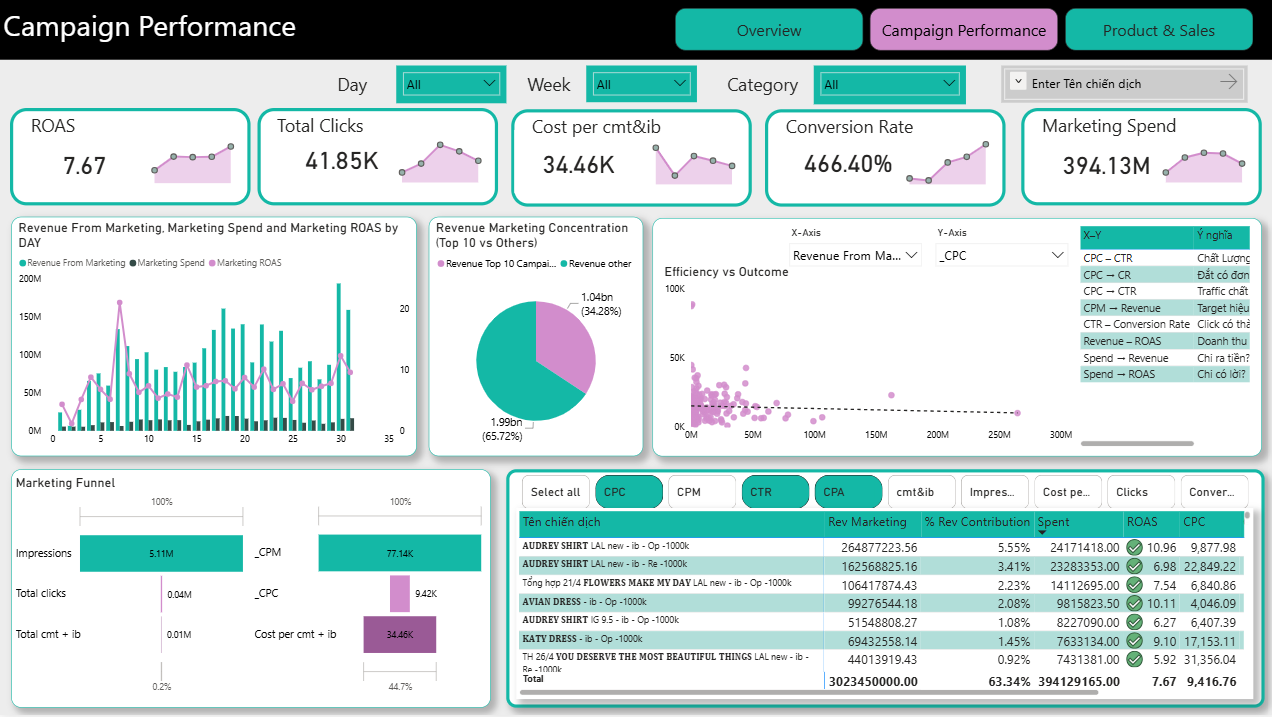

What the dashboard file says about the page in this screenshot:
{"tool":"powerbi","page":{"name":"Campaign Performance","canvas":[1920,1080],"ordinal":1},"visuals":[{"type":"textbox","box":[0,0,1920,93],"z":0},{"type":"textbox","box":[787.3,107.1,111.6,43.3],"z":0,"group":"g11"},{"type":"textbox","box":[502.2,107.2,111.1,44.5],"z":0,"group":"g12"},{"type":"textbox","box":[1087.4,107.2,157.2,44.4],"z":0,"group":"g13"},{"type":"shape","box":[387.7,166.1,361.6,146.6],"z":0,"group":"g4"},{"type":"shape","box":[1535.3,166.1,361.6,146.6],"z":0,"group":"g8"},{"type":"group","id":"g1","title":"Group 1","box":[15.1,166.7,361.6,146.6],"z":0,"group":"g9"},{"type":"shape","box":[15.1,166.7,361.6,146.6],"z":0,"group":"g1"},{"type":"shape","box":[769.2,168,361.6,146.6],"z":0,"group":"g6"},{"type":"shape","box":[1150.1,168,361.6,146.6],"z":0,"group":"g7"},{"type":"group","id":"g2","title":"Scatter_2","box":[994.9,339.3,622.8,337.5],"z":0,"group":"g10"},{"type":"group","id":"g3","title":"Slicer Scatter","box":[1176.7,339.3,438.6,72.9],"z":0,"group":"g2"},{"type":"slicer","fields":{"Values":["Prmt_AXis.Prmt_AXis"]},"box":[1176.7,339.3,219.3,72.9],"z":0,"group":"g3"},{"type":"shape","box":[17,708,721.2,358.7],"z":0,"group":"g14"},{"type":"funnel","title":"Marketing Funnel","fields":{"Y":["Measure.Total impressions","Measure.Total clicks","Measure.Total cmt + ib"]},"box":[18.9,716.7,356.6,335.3],"z":0,"group":"g5"},{"type":"pivotTable","fields":{"Values":["Measure.Revenue From Marketing","Measure.% Revenue Contribution","Measure.Marketing Spend","Measure.Marketing ROAS","Measure._CPC","Measure.CPA","Measure._CTR"],"Rows":["mkt_camp_cost.Tên chiến dịch"]},"box":[775.9,766,1108.2,287],"z":0,"group":"g16"},{"type":"textbox","box":[0,6.3,582.3,79.3],"z":1000},{"type":"slicer","fields":{"Values":["Dim_Date.DAY"]},"box":[596.4,101.9,165.8,57],"z":1000,"group":"g12"},{"type":"slicer","fields":{"Values":["Dim_Date.Week"]},"box":[881.8,101.9,166.4,55.4],"z":1000,"group":"g11"},{"type":"slicer","fields":{"Values":["danh sach san pham.Danh mục"]},"box":[1221.8,101.9,229.1,58.6],"z":1000,"group":"g13"},{"type":"group","id":"g4","title":"Group 1","box":[387.7,166.1,361.6,146.6],"z":1000,"group":"g9"},{"type":"cardVisual","fields":{"Data":["Measure.Total clicks"]},"box":[412.4,188.8,215.4,105.9],"z":1000,"group":"g4"},{"type":"cardVisual","fields":{"Data":["Measure.Conversion Rate (Click → Order)"]},"box":[1161.2,189.1,233.7,113.2],"z":1000,"group":"g7"},{"type":"cardVisual","fields":{"Data":["Measure.Marketing ROAS"]},"box":[47,189.2,208.5,117.1],"z":1000,"group":"g1"},{"type":"cardVisual","fields":{"Data":["Measure.Marketing Spend"]},"box":[1550.3,189.8,230.3,115.2],"z":1000,"group":"g8"},{"type":"cardVisual","fields":{"Data":["Measure.Cost per cmt + ib"]},"box":[768.9,194.8,240.2,105.7],"z":1000,"group":"g6"},{"type":"shape","box":[981.7,330.4,915.6,358.7],"z":1000,"group":"g15"},{"type":"tableEx","fields":{"Values":["Recommend chart.X–Y","Recommend chart.Ý nghĩa"]},"box":[1618.3,338,266.2,341.4],"z":1000,"group":"g10"},{"type":"slicer","fields":{"Values":["Prmt_Yxis.Prmt_Yxis"]},"box":[1396,339.3,219.3,72.9],"z":1000,"group":"g3"},{"type":"scatterChart","title":"Efficiency vs Outcome","fields":{"X":["Measure.Revenue From Marketing"],"Y":["Measure._CPC"],"Category":["mkt_camp_cost.Tên chiến dịch"]},"box":[994.9,400.3,622.8,276.5],"z":1000,"group":"g2"},{"type":"shape","box":[760.8,708,1140.3,358.7],"z":1000,"group":"g16"},{"type":"group","id":"g5","title":"Funnel","box":[18.9,716.7,715.5,345.2],"z":1000,"group":"g14"},{"type":"funnel","title":"Marketing Funnel","fields":{"Y":["Measure._CPM","Measure._CPC","Measure.Cost per cmt + ib"]},"box":[378.6,725.9,355.9,336],"z":1000,"group":"g5"},{"type":"group","id":"g6","title":"Group 1","box":[768.9,168,361.4,147.3],"z":2000,"group":"g9"},{"type":"lineChart","fields":{"Category":["Dim_Date.Week"],"Y":["Measure.Total clicks"]},"box":[588,199.7,147.6,84.3],"z":2000,"group":"g4"},{"type":"lineChart","fields":{"Category":["Dim_Date.Week"],"Y":["Measure.Marketing Spend"]},"box":[1735.6,199.7,147.6,84.3],"z":2000,"group":"g8"},{"type":"lineChart","fields":{"Category":["Dim_Date.Week"],"Y":["Measure.Marketing ROAS"]},"box":[215.4,200.3,147.6,84.3],"z":2000,"group":"g1"},{"type":"lineChart","fields":{"Category":["Dim_Date.Week"],"Y":["Measure.Cost per cmt + ib"]},"box":[969.5,201.6,147.6,84.3],"z":2000,"group":"g6"},{"type":"lineChart","fields":{"Category":["Dim_Date.Week"],"Y":["Measure.Conversion Rate (Click → Order)"]},"box":[1350.4,201.6,147.6,84.3],"z":2000,"group":"g7"},{"type":"lineClusteredColumnComboChart","fields":{"Y":["Measure.Revenue From Marketing","Measure.Marketing Spend"],"Category":["Dim_Date.DAY"],"Y2":["Measure.Marketing ROAS"]},"box":[16.3,329.4,609.9,360.1],"z":2000},{"type":"advancedSlicerVisual","fields":{"Values":["Parameter_table.Parameter_table"]},"box":[779.2,711.7,1105.7,61.5],"z":2000,"group":"g16"},{"type":"textbox","box":[411.2,167.8,237.9,54.3],"z":3000,"group":"g4"},{"type":"textbox","box":[1562,167.8,234.1,54.3],"z":3000,"group":"g8"},{"type":"group","id":"g7","title":"Group 1","box":[1150.1,168,361.6,146.6],"z":3000,"group":"g9"},{"type":"textbox","box":[41.8,168.4,234.1,54.3],"z":3000,"group":"g1"},{"type":"textbox","box":[1175.5,169.2,266.1,54.7],"z":3000,"group":"g7"},{"type":"textbox","box":[795.9,169.7,234.1,54.3],"z":3000,"group":"g6"},{"type":"pieChart","title":"Revenue Marketing  Concentration (Top 10 vs Others)","fields":{"Y":["Measure.Revenue Top 10 Campaigns","Measure.Revenue other"]},"box":[644.2,329.4,322.1,360.1],"z":3000},{"type":"pageNavigator","box":[1015.5,14.7,871.7,64.5],"z":4000},{"type":"group","id":"g8","title":"Group 1","box":[1535.3,166.1,361.6,146.6],"z":4000,"group":"g9"},{"type":"group","id":"g9","title":"Group 2","box":[15.1,166.1,1882.2,149.1],"z":5000},{"type":"group","id":"g10","title":"ScatterP2","box":[994.9,338,889.2,341.7],"z":5000,"group":"g15"},{"type":"group","id":"g11","title":"Week","box":[787.3,101.9,260.5,56.6],"z":6000},{"type":"group","id":"g12","title":"Week","box":[502.2,101.9,258.6,56.6],"z":7000},{"type":"group","id":"g13","title":"Category","box":[1087.4,101.9,364.4,56.6],"z":8000},{"type":"textSlicer","fields":{"Values":["danh sach san pham.Tên sản phẩm"]},"box":[1506.5,101.9,364.4,54.7],"z":9000},{"type":"group","id":"g14","title":"Funnel","box":[17,708,721.2,358.7],"z":10000},{"type":"group","id":"g15","title":"Group 3","box":[981.7,330.4,915.6,358.7],"z":11000},{"type":"group","id":"g16","title":"Group 4","box":[760.8,708,1140.3,358.7],"z":12000}]}

Visuals, with their boxes in screenshot pixels (x1, y1, x2, y2), scaled from the page's 1920x1080 canvas onto the 1272x717 screenshot:
textbox: Rect(0, 0, 1271, 62)
textbox: Rect(522, 71, 596, 100)
textbox: Rect(333, 71, 406, 101)
textbox: Rect(720, 71, 825, 101)
shape: Rect(257, 110, 496, 208)
shape: Rect(1017, 110, 1257, 208)
"Group 1" group: Rect(10, 111, 250, 208)
shape: Rect(10, 111, 250, 208)
shape: Rect(510, 112, 749, 209)
shape: Rect(762, 112, 1002, 209)
"Scatter_2" group: Rect(659, 225, 1072, 449)
"Slicer Scatter" group: Rect(780, 225, 1070, 274)
slicer - Prmt_AXis.Prmt_AXis: Rect(780, 225, 925, 274)
shape: Rect(11, 470, 489, 708)
"Marketing Funnel" funnel: Rect(13, 476, 249, 698)
pivotTable - Measure.Revenue From Marketing x Measure.% Revenue Contribution: Rect(514, 509, 1248, 699)
textbox: Rect(0, 4, 386, 57)
slicer - Dim_Date.DAY: Rect(395, 68, 505, 105)
slicer - Dim_Date.Week: Rect(584, 68, 694, 104)
slicer - danh sach san pham.Danh mục: Rect(809, 68, 961, 107)
"Group 1" group: Rect(257, 110, 496, 208)
cardVisual - Measure.Total clicks: Rect(273, 125, 416, 196)
cardVisual - Measure.Conversion Rate (Click → Order): Rect(769, 126, 924, 201)
cardVisual - Measure.Marketing ROAS: Rect(31, 126, 169, 203)
cardVisual - Measure.Marketing Spend: Rect(1027, 126, 1180, 202)
cardVisual - Measure.Cost per cmt + ib: Rect(509, 129, 669, 199)
shape: Rect(650, 219, 1257, 457)
tableEx - Recommend chart.X–Y x Recommend chart.Ý nghĩa: Rect(1072, 224, 1248, 451)
slicer - Prmt_Yxis.Prmt_Yxis: Rect(925, 225, 1070, 274)
"Efficiency vs Outcome" scatterChart: Rect(659, 266, 1072, 449)
shape: Rect(504, 470, 1259, 708)
"Funnel" group: Rect(13, 476, 487, 705)
"Marketing Funnel" funnel: Rect(251, 482, 487, 705)
"Group 1" group: Rect(509, 112, 749, 209)
lineChart - Dim_Date.Week x Measure.Total clicks: Rect(390, 133, 487, 189)
lineChart - Dim_Date.Week x Measure.Marketing Spend: Rect(1150, 133, 1248, 189)
lineChart - Dim_Date.Week x Measure.Marketing ROAS: Rect(143, 133, 240, 189)
lineChart - Dim_Date.Week x Measure.Cost per cmt + ib: Rect(642, 134, 740, 190)
lineChart - Dim_Date.Week x Measure.Conversion Rate (Click → Order): Rect(895, 134, 992, 190)
lineClusteredColumnComboChart - Measure.Revenue From Marketing x Measure.Marketing Spend: Rect(11, 219, 415, 458)
advancedSlicerVisual - Parameter_table.Parameter_table: Rect(516, 472, 1249, 513)
textbox: Rect(272, 111, 430, 147)
textbox: Rect(1035, 111, 1190, 147)
"Group 1" group: Rect(762, 112, 1002, 209)
textbox: Rect(28, 112, 183, 148)
textbox: Rect(779, 112, 955, 149)
textbox: Rect(527, 113, 682, 149)
"Revenue Marketing  Concentration (Top 10 vs Others)" pieChart: Rect(427, 219, 640, 458)
pageNavigator: Rect(673, 10, 1250, 53)
"Group 1" group: Rect(1017, 110, 1257, 208)
"Group 2" group: Rect(10, 110, 1257, 209)
"ScatterP2" group: Rect(659, 224, 1248, 451)
"Week" group: Rect(522, 68, 694, 105)
"Week" group: Rect(333, 68, 504, 105)
"Category" group: Rect(720, 68, 962, 105)
textSlicer - danh sach san pham.Tên sản phẩm: Rect(998, 68, 1239, 104)
"Funnel" group: Rect(11, 470, 489, 708)
"Group 3" group: Rect(650, 219, 1257, 457)
"Group 4" group: Rect(504, 470, 1259, 708)
